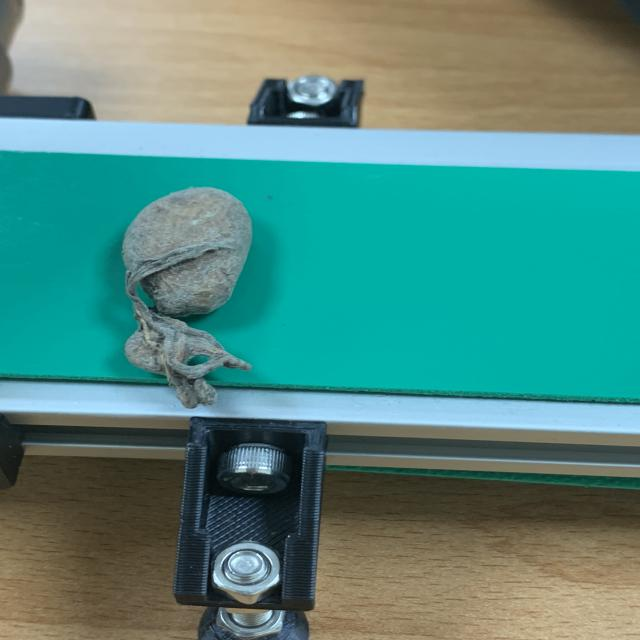Agglomerated_cocoabeans: (8, 150, 362, 421)
